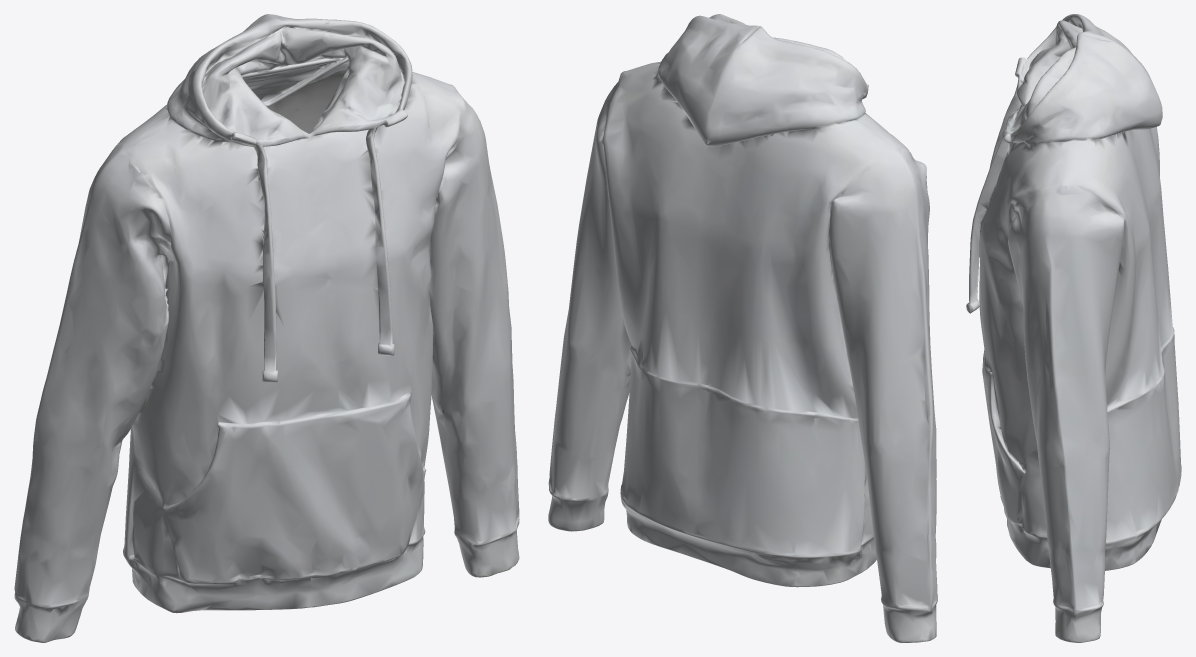
3 renders of one model, left to right at view 1: azimuth 30°, elevation 25°; view 2: azimuth 150°, elevation 25°; view 3: azimuth 270°, elevation 25°, orthographic. The views are drawn at different scales.
Visible parts, largest first — view 1: tripo_node_36bcc448-01d1-483e-af6a-26dd16ec05f5; view 2: tripo_node_36bcc448-01d1-483e-af6a-26dd16ec05f5; view 3: tripo_node_36bcc448-01d1-483e-af6a-26dd16ec05f5.
Part boxes in pixels (x1,y1,x2,y2): tripo_node_36bcc448-01d1-483e-af6a-26dd16ec05f5: (14,14,519,642); tripo_node_36bcc448-01d1-483e-af6a-26dd16ec05f5: (548,14,937,642); tripo_node_36bcc448-01d1-483e-af6a-26dd16ec05f5: (966,14,1181,642).
Bounding box in the file's own units: 0.8119 × 0.9999 × 0.3783.
Materials: 1 (1 with a texture image).
